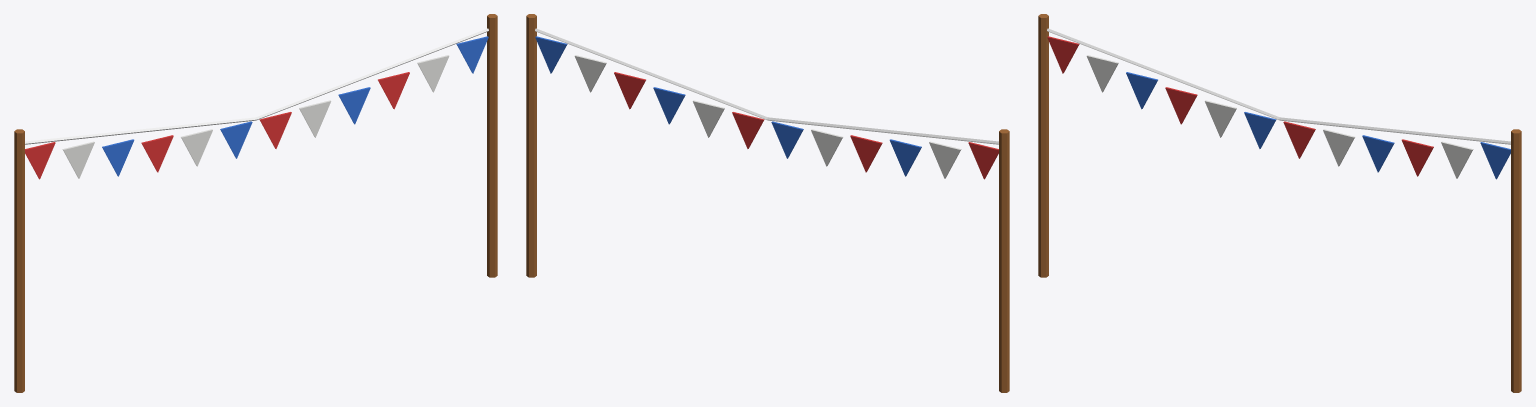
The model's file is FlagBunting.fbx.
3 views of the same model, side by side, from view 1: azimuth 30°, elevation 25°; view 2: azimuth 150°, elevation 25°; view 3: azimuth 330°, elevation 25° (orthographic).
Visible parts, largest first — view 1: FlagBunting; view 2: FlagBunting; view 3: FlagBunting.
Part boxes in pixels (box(x1,y1,x2,y2)): FlagBunting: box(14, 14, 497, 392); FlagBunting: box(526, 14, 1009, 392); FlagBunting: box(1038, 14, 1521, 392).
Size of the model in its own units: 12.21 by 6.3 by 0.24.
1 material, 1 textured.
